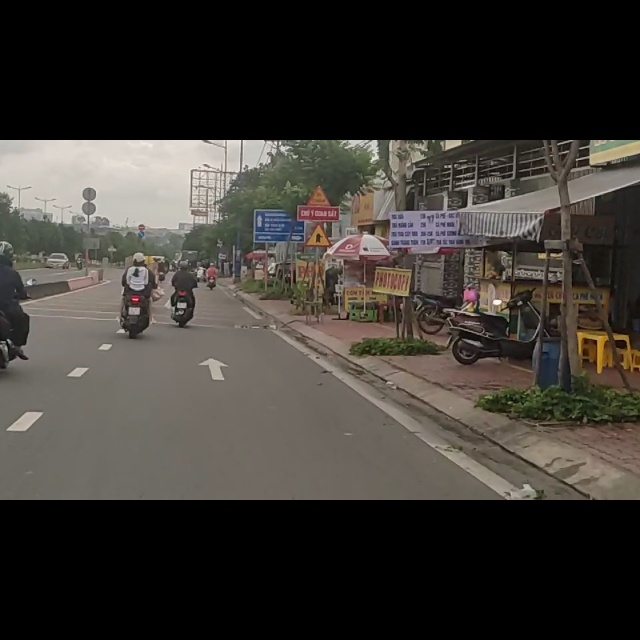bien_nguy_hiem: (304, 145, 333, 191)
